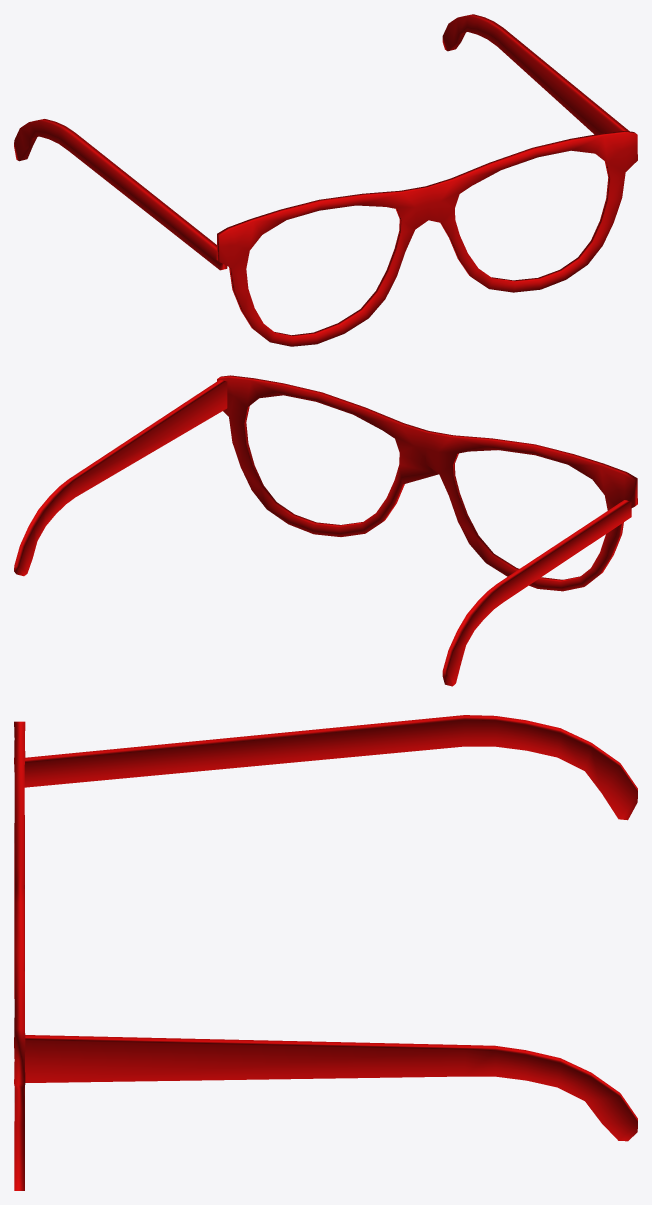
The model's file is UpperFace_SimpleGlasses.glb.
The picture shows the model from 3 angles, top to bottom: view 1: azimuth 30°, elevation 25°; view 2: azimuth 150°, elevation 25°; view 3: azimuth 270°, elevation 25°; orthographic projection. The views are drawn at different scales.
Visible parts, largest first — view 1: UpperFace_SimpleGlasses; view 2: UpperFace_SimpleGlasses; view 3: UpperFace_SimpleGlasses.
Boxes of the visible parts, x1,y1,x2,y2 form: UpperFace_SimpleGlasses: [14, 14, 637, 346]; UpperFace_SimpleGlasses: [14, 375, 637, 686]; UpperFace_SimpleGlasses: [14, 715, 637, 1190].
Bounding box in the file's own units: 0.1863 × 0.0574 × 0.1461.
